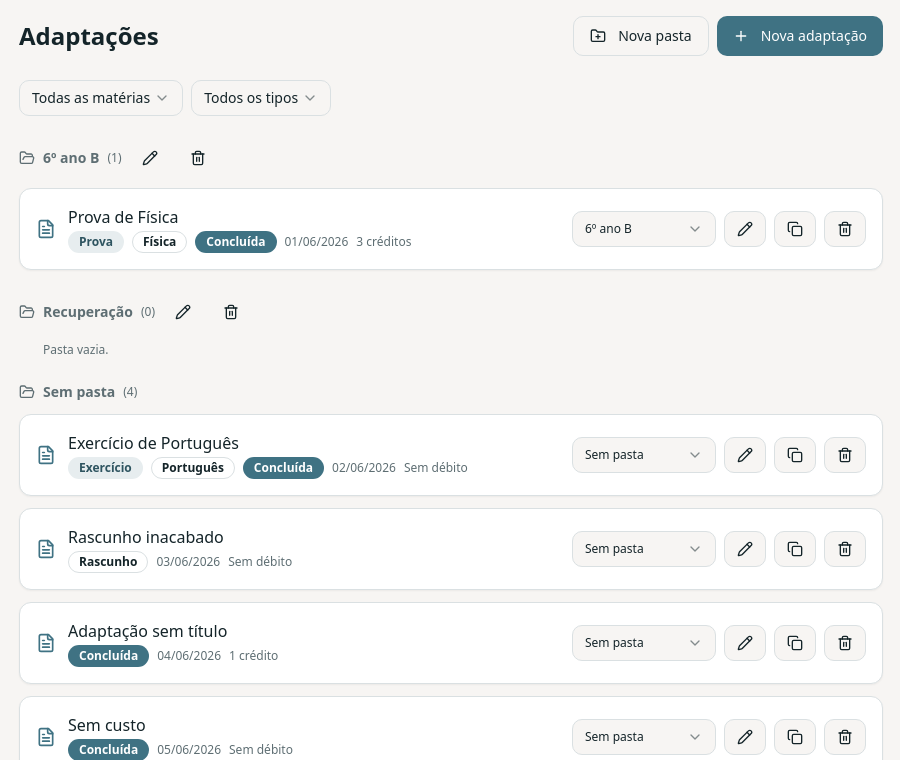
it: AdaptacoesPage › filtros › resets the matéria filter back to all
What coordinates should you click on to do the following:
click the dropdown named "Filtrar por matéria"
I would click on:
 (101, 98)
Its box is [19,80,183,116].
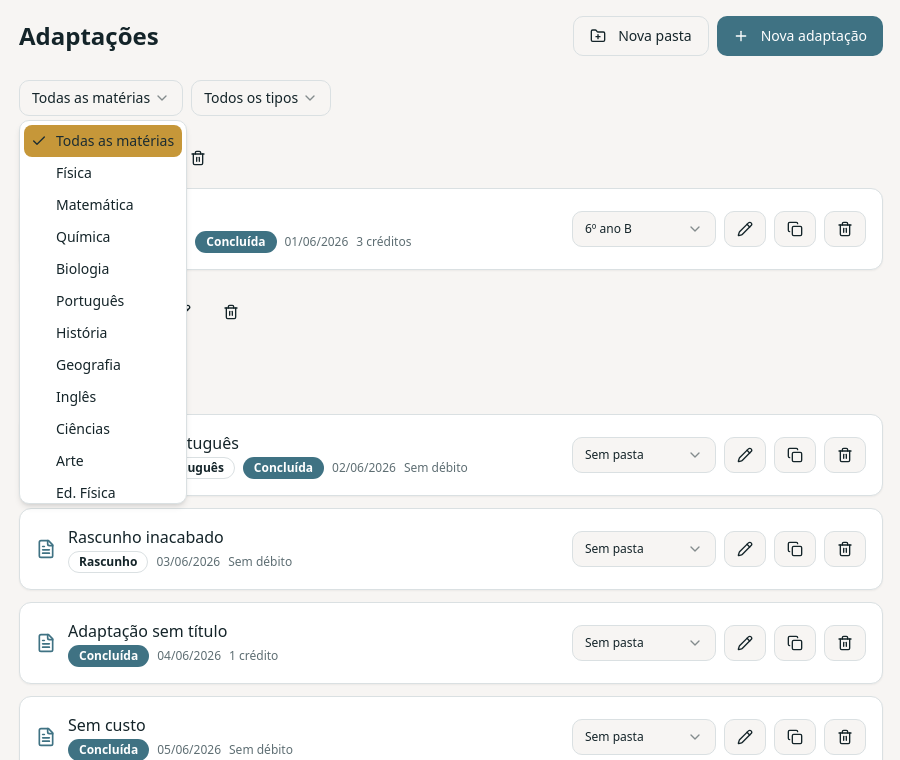
Expected: the option "Física" is shown
What coordinates should you click on to do the following:
click the option "Física"
I would click on:
 (74, 172)
Its box is [56,163,92,182].
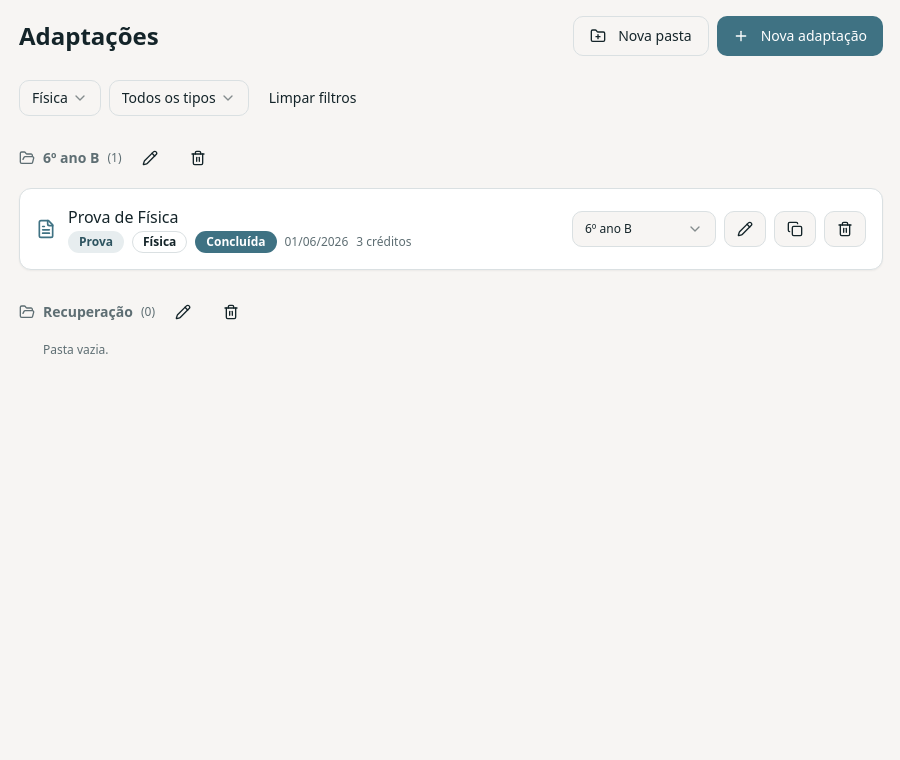
What coordinates should you click on to do the following:
click the dropdown named "Filtrar por matéria"
I would click on:
 (60, 98)
Its box is [19,80,101,116].
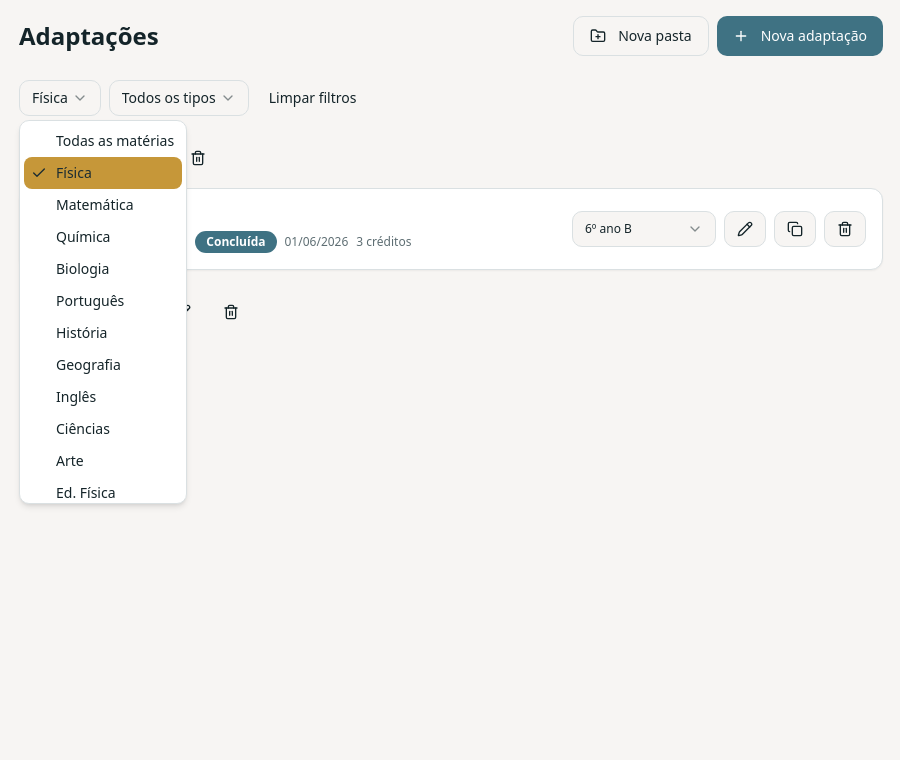
Expected: the option "Todas as matérias" is shown
What coordinates should you click on to do the following:
click the option "Todas as matérias"
I would click on:
 (115, 140)
Its box is [56,131,174,150].
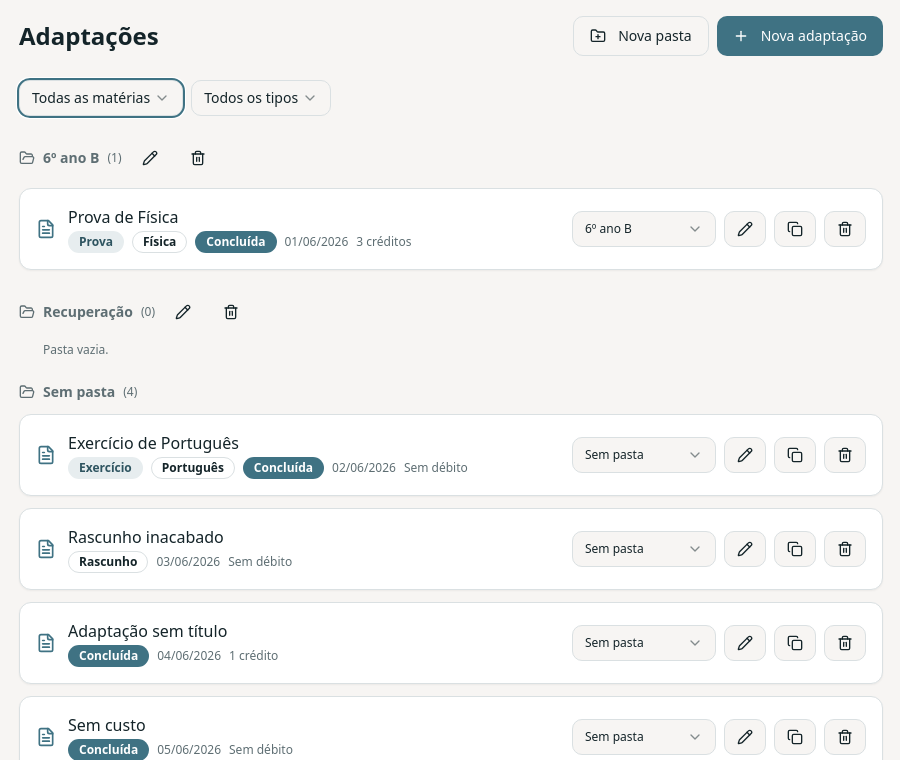
Expected: the text "Exercício de Português" is shown, [68,432,239,454]
